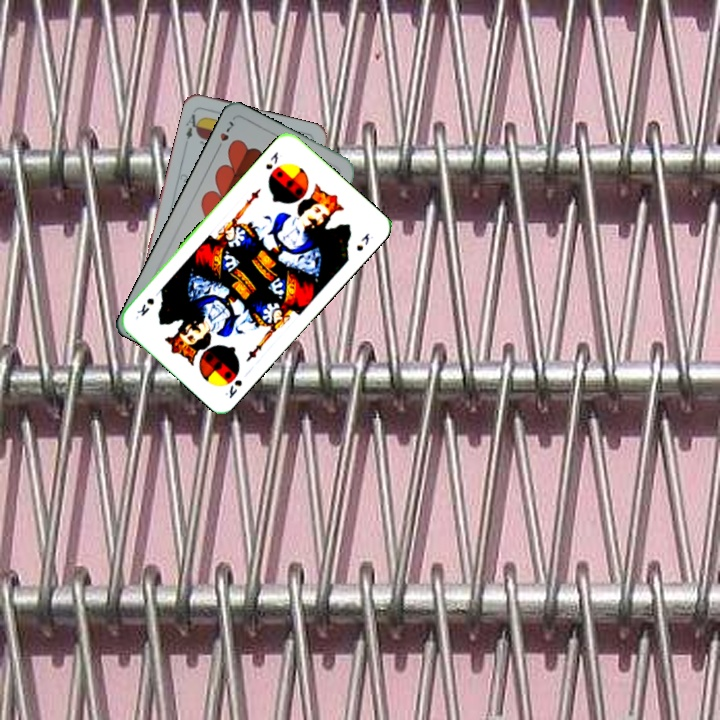EA: (182, 107, 203, 142)
H7: (212, 117, 238, 154)
SK: (221, 375, 245, 401), (262, 148, 281, 172)
